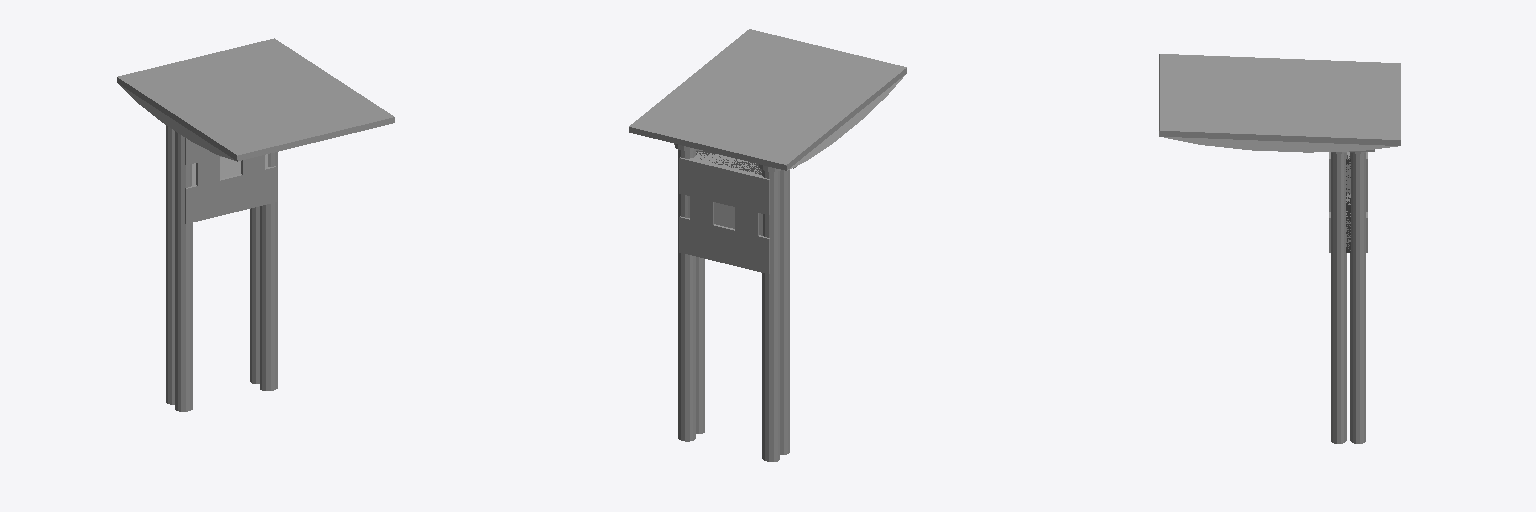
The picture shows the model from 3 angles: view 1: azimuth 30°, elevation 25°; view 2: azimuth 150°, elevation 25°; view 3: azimuth 270°, elevation 25°; orthographic projection.
Parts seen in each view (by area): view 1: rt, lt, rb, lb, t, l, b; view 2: lt, rt, lb, rb, t, b, l; view 3: rt, lt, rb, t.
Boxes of the visible parts, x1=… form: rt: x1=164, y1=38, x2=394, y2=209; lt: x1=117, y1=47, x2=360, y2=222; rb: x1=185, y1=152, x2=277, y2=390; lb: x1=166, y1=126, x2=276, y2=411; t: x1=152, y1=47, x2=359, y2=173; l: x1=166, y1=125, x2=224, y2=222; b: x1=185, y1=156, x2=276, y2=223; lt: x1=663, y1=38, x2=906, y2=273; rt: x1=629, y1=29, x2=868, y2=245; lb: x1=679, y1=171, x2=789, y2=461; rb: x1=678, y1=153, x2=769, y2=441; t: x1=663, y1=37, x2=863, y2=223; b: x1=679, y1=153, x2=769, y2=273; l: x1=726, y1=170, x2=789, y2=273; rt: x1=1159, y1=70, x2=1400, y2=255; lt: x1=1159, y1=54, x2=1400, y2=248; rb: x1=1329, y1=159, x2=1367, y2=443; t: x1=1159, y1=70, x2=1400, y2=158.
Size of the model in its own units: 0.875 by 1.74 by 1.16.
Materials: 4 (2 with a texture image).